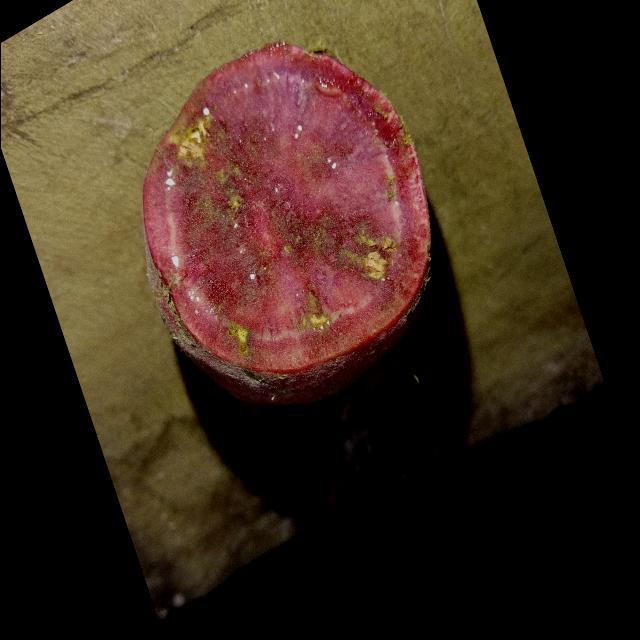Sick Sweet Potato_Tuber Rot: (142, 43, 429, 403)
